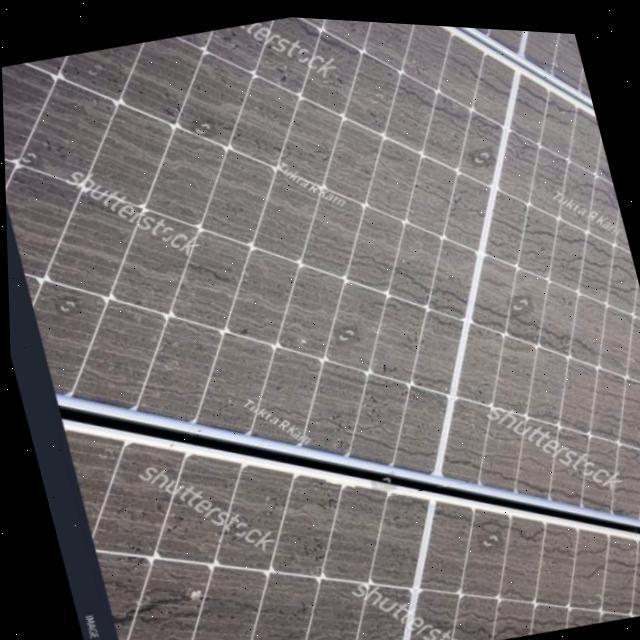Anomaly Solar Panel: (2, 13, 640, 521), (65, 427, 640, 640), (470, 22, 592, 96)
Surface Contaminant: (2, 13, 640, 518), (62, 425, 640, 640), (478, 22, 592, 95)
